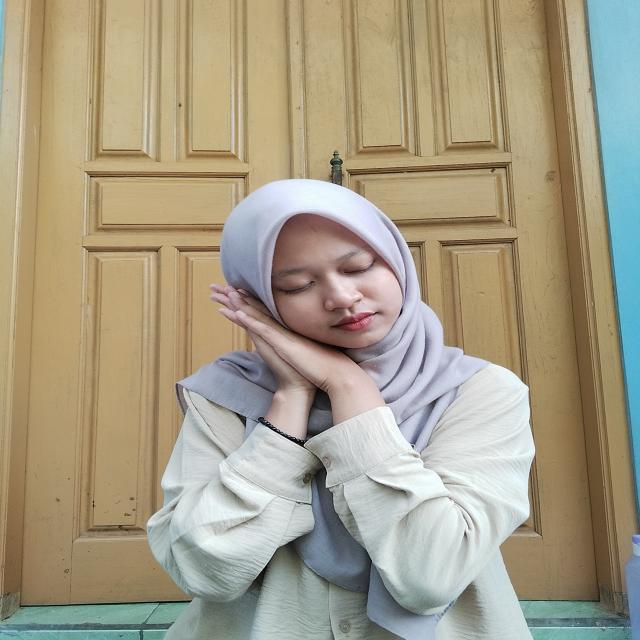tidur: (196, 272, 400, 474)
